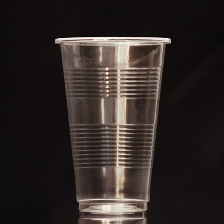glass: (50, 30, 176, 219)
